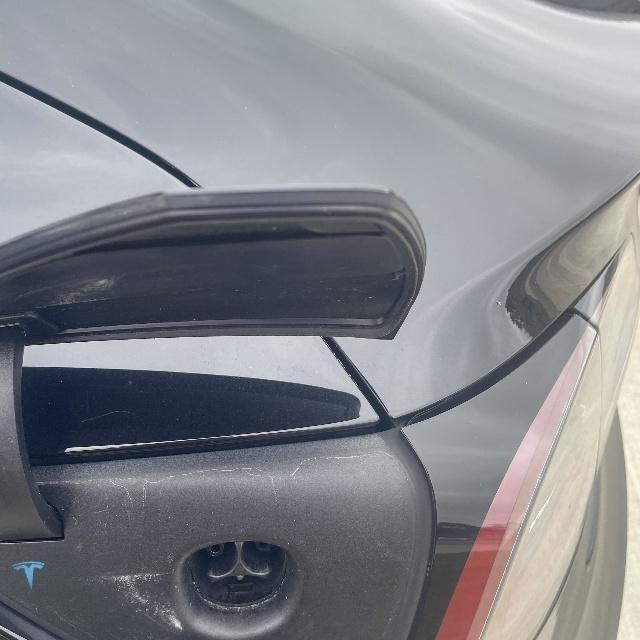Tesla Model-S-: (146, 511, 328, 640)
